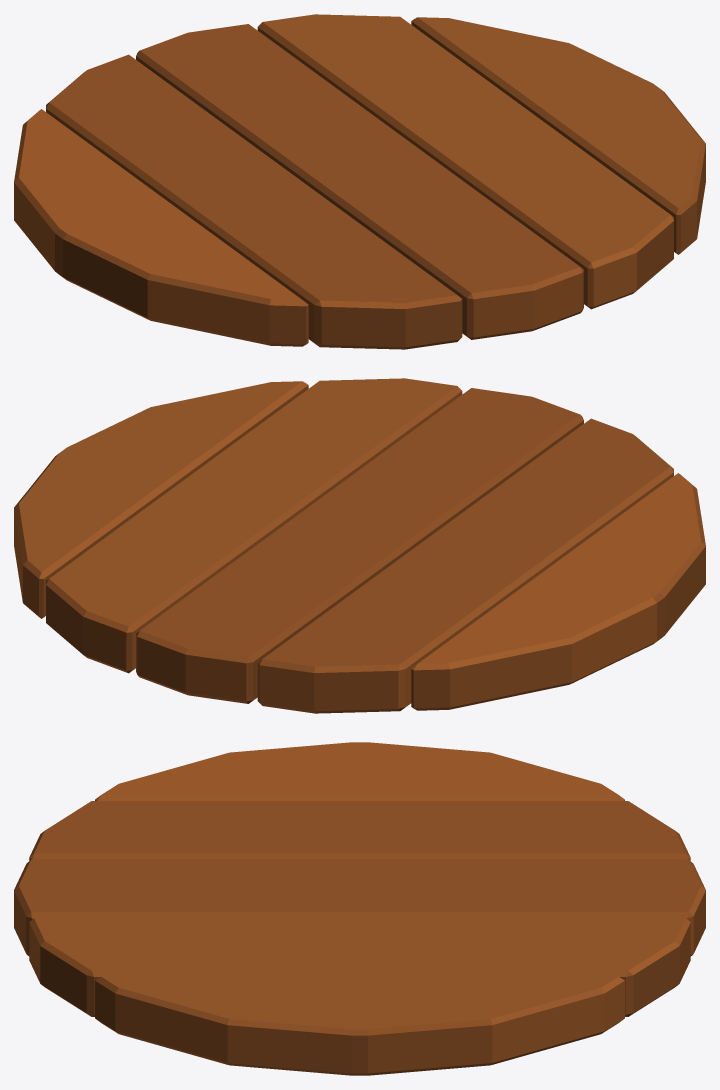
Rendered from D08_Barrel_Lid.fbx.
3 views of the same model, one above another, from view 1: azimuth 30°, elevation 25°; view 2: azimuth 150°, elevation 25°; view 3: azimuth 270°, elevation 25° (orthographic).
Parts seen in each view (by area): view 1: D08_Barrel_Lid; view 2: D08_Barrel_Lid; view 3: D08_Barrel_Lid.
Boxes of the visible parts, x1=… form: D08_Barrel_Lid: x1=14, y1=14, x2=705, y2=349; D08_Barrel_Lid: x1=14, y1=378, x2=705, y2=713; D08_Barrel_Lid: x1=14, y1=742, x2=705, y2=1075.
Bounding box in the file's own units: 0.874 × 0.065 × 0.878.
Materials: 1 (1 with a texture image).
